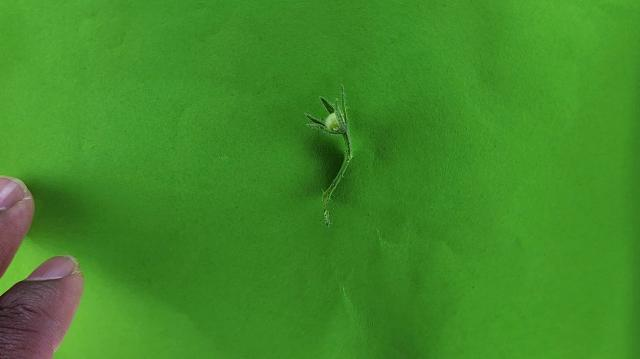Fruit Bud: (303, 96, 347, 136)
